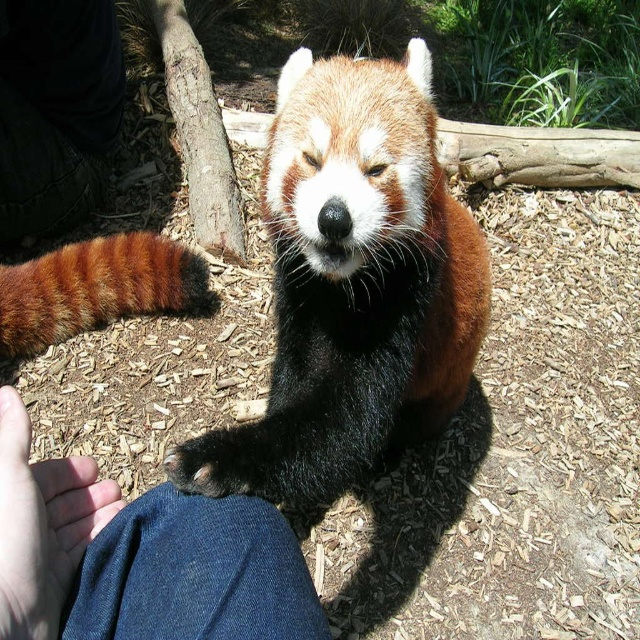Red panda: (163, 38, 494, 540), (1, 231, 202, 381)
